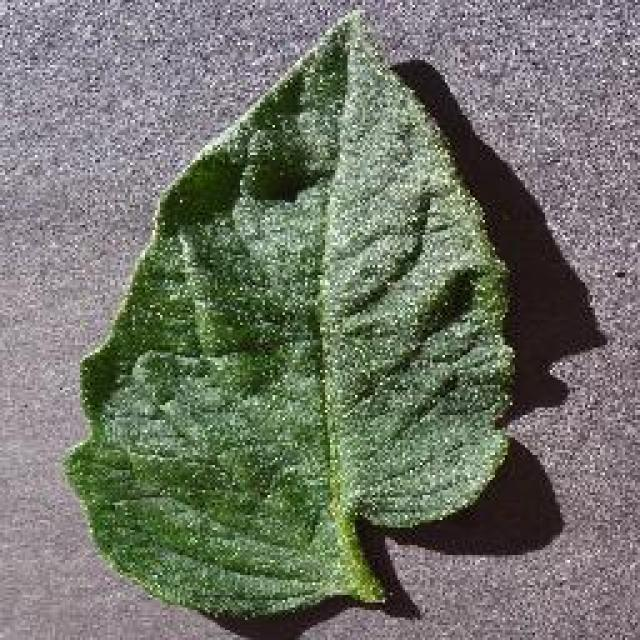Tomato healthy leaf: (60, 15, 525, 615)
